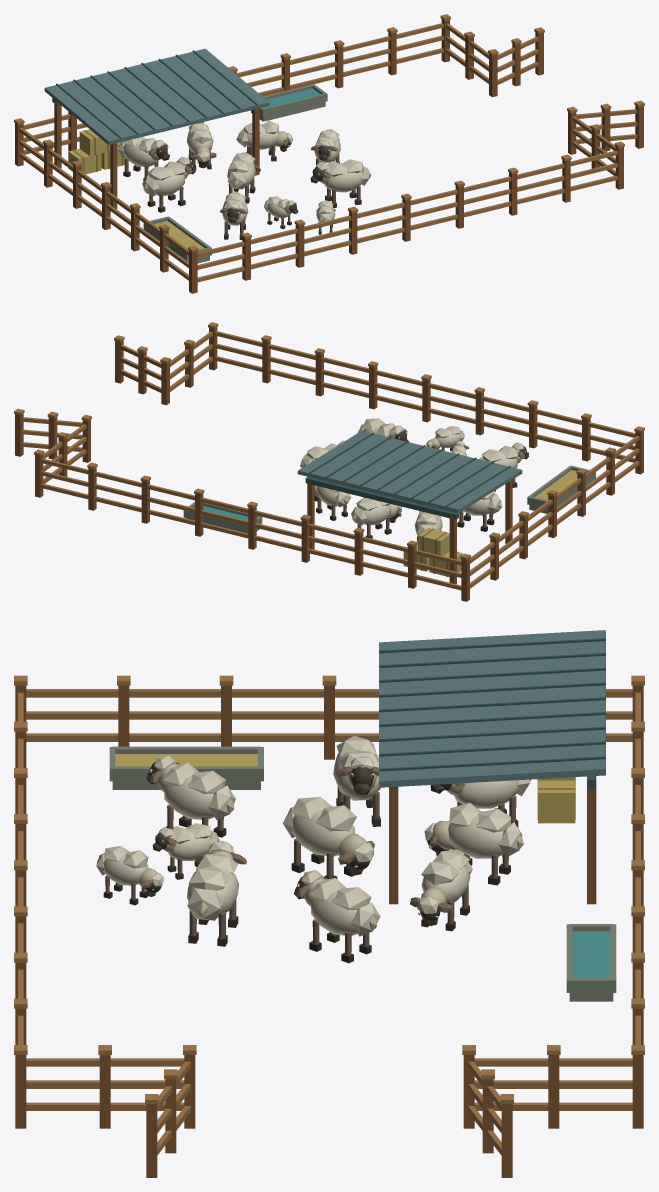
Rendered from sheep_pen.glb.
3 renders of one model, top to bottom at view 1: azimuth 30°, elevation 25°; view 2: azimuth 150°, elevation 25°; view 3: azimuth 270°, elevation 25°, orthographic. The views are drawn at different scales.
Visible parts, largest first — view 1: sheep_pen; view 2: sheep_pen; view 3: sheep_pen.
Boxes of the visible parts, left/top/right/bottom form: sheep_pen: left=14, top=14, right=644, bottom=293; sheep_pen: left=14, top=322, right=644, bottom=601; sheep_pen: left=14, top=630, right=644, bottom=1177.
Bounding box in the file's own units: 17.24 × 2.71 × 10.84.
